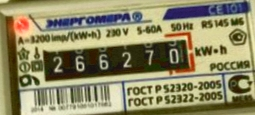0: (166, 45, 178, 66)
2: (49, 53, 65, 75), (119, 49, 133, 70)
6: (72, 53, 86, 74), (96, 51, 110, 71)
7: (142, 47, 155, 67)
screen: (28, 24, 205, 95)
